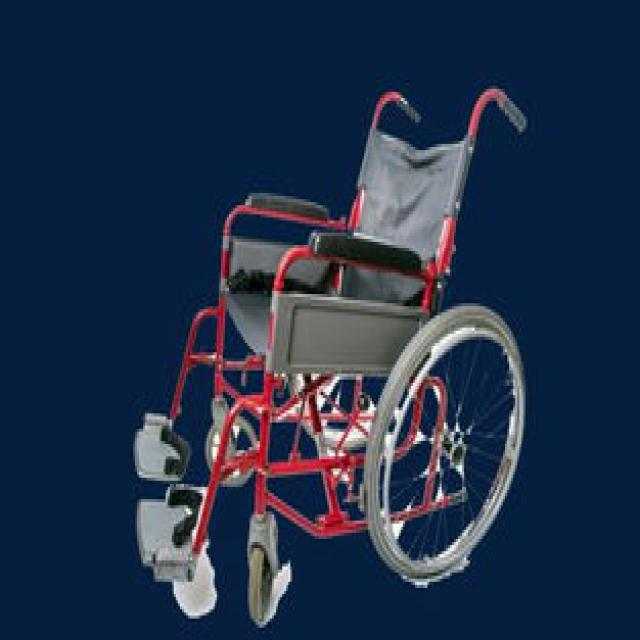wheelchair: (133, 82, 534, 628)
